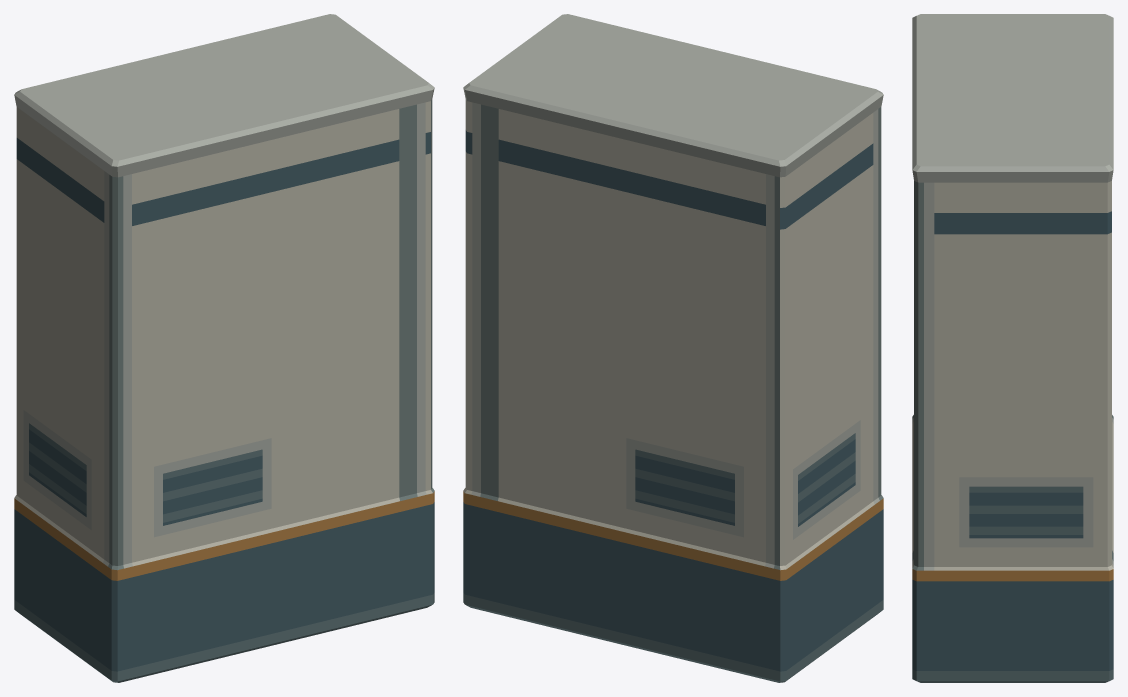
The model's file is wall-center-dogleg.glb.
3 views of the same model, side by side, from view 1: azimuth 30°, elevation 25°; view 2: azimuth 150°, elevation 25°; view 3: azimuth 270°, elevation 25° (orthographic).
Visible parts, largest first — view 1: wall-center-dogleg-export; view 2: wall-center-dogleg-export; view 3: wall-center-dogleg-export.
Boxes of the visible parts, box(x1,y1,x2,y2) form: wall-center-dogleg-export: box(14, 14, 434, 682); wall-center-dogleg-export: box(463, 14, 883, 682); wall-center-dogleg-export: box(912, 14, 1113, 682).
Bounding box in the file's own units: 2.2 × 3.4 × 1.2.
